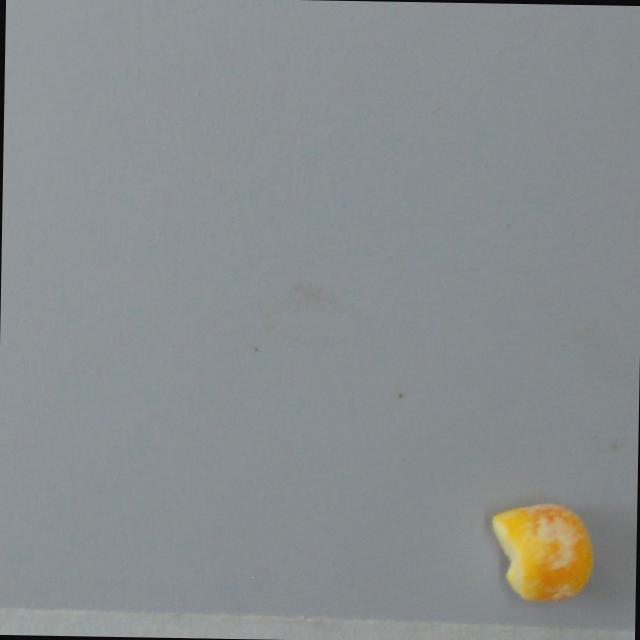pelicula: (490, 500, 595, 602)
